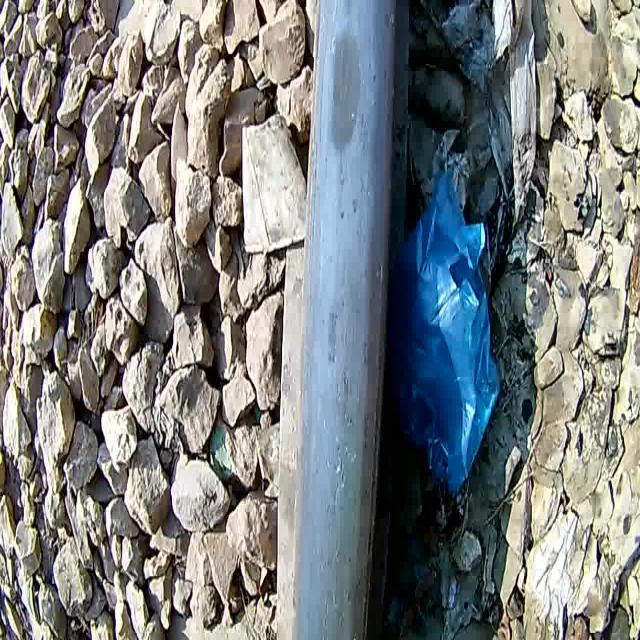Squats: (278, 1, 416, 640)
